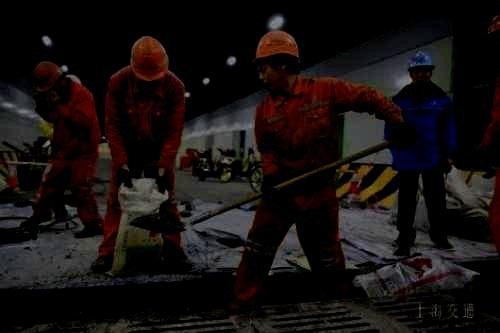helmet: (254, 30, 299, 91), (130, 36, 169, 82), (33, 62, 67, 101), (407, 49, 437, 86)
